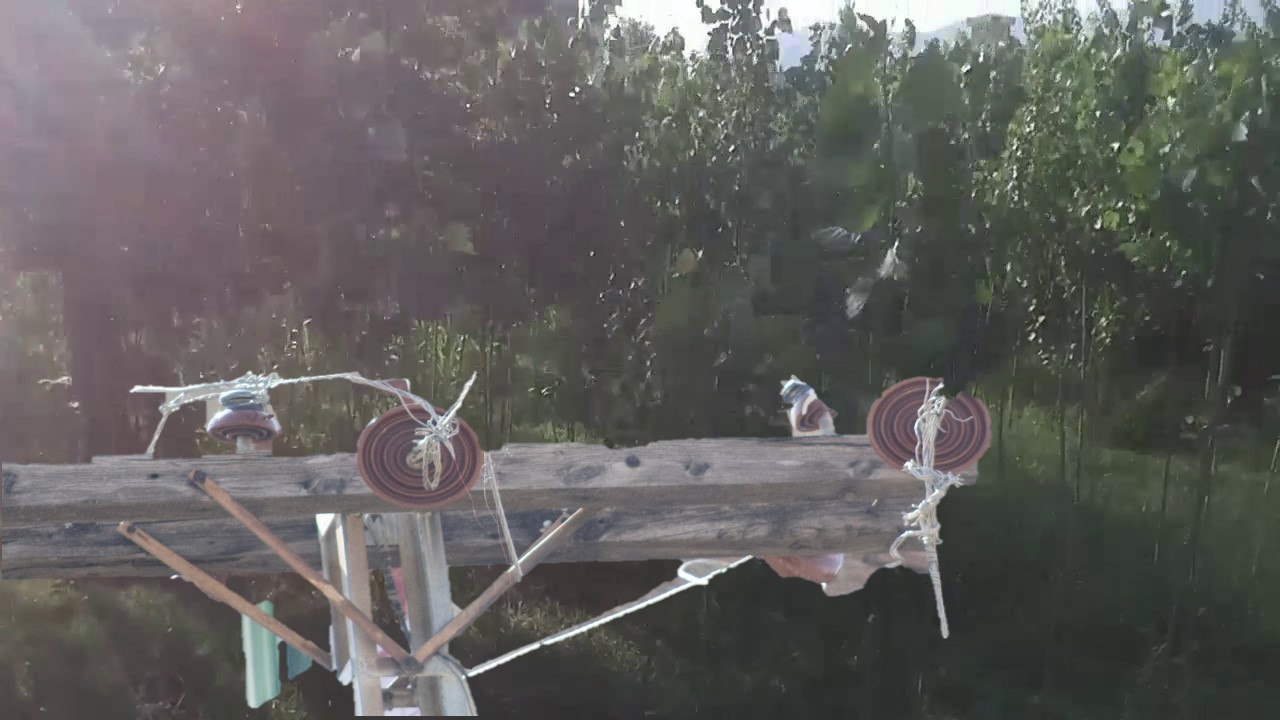defect_pin: (774, 367, 840, 444)
insulator_disc: (353, 399, 487, 519), (863, 369, 999, 480)
insulator_pin: (200, 379, 286, 451)
